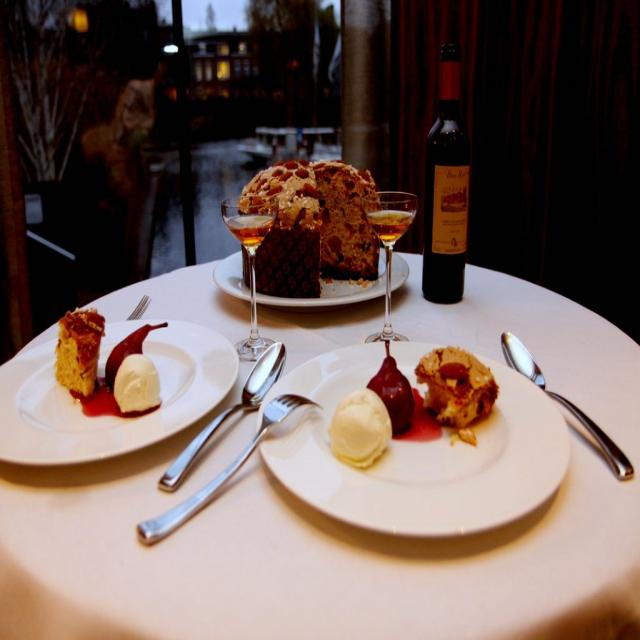non-organic waste: (253, 346, 573, 554), (0, 302, 241, 472)
